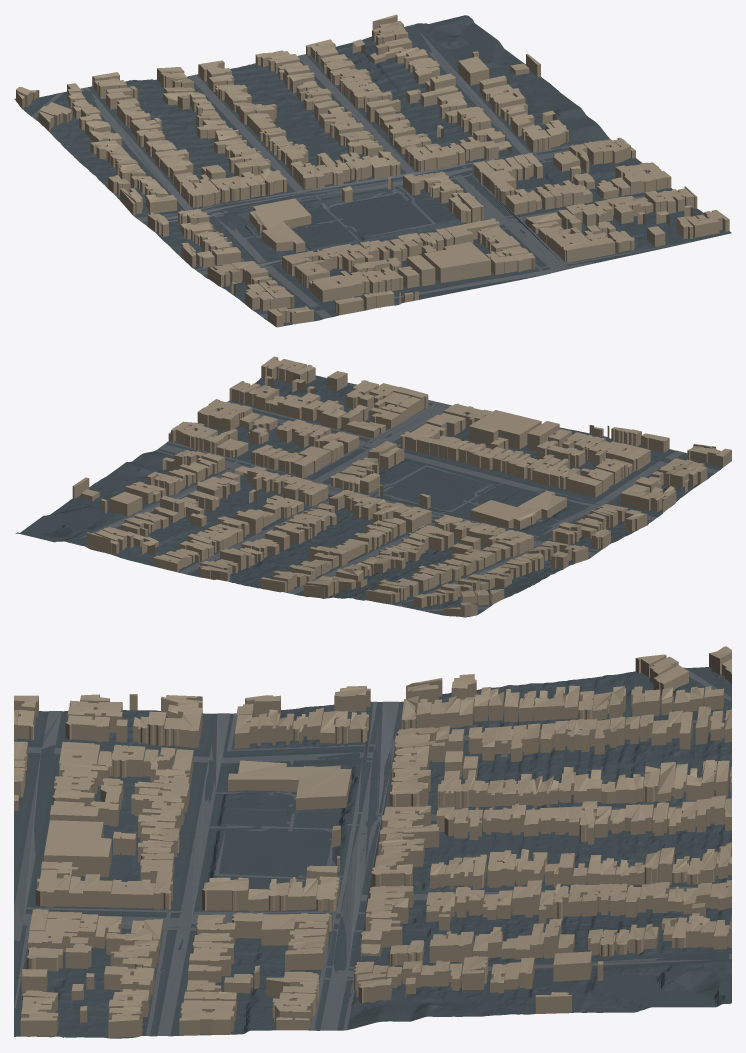
Rendered from epsg26910-1433-10878.lod0.glb.
3 renders of one model, top to bottom at view 1: azimuth 30°, elevation 25°; view 2: azimuth 150°, elevation 25°; view 3: azimuth 270°, elevation 25°, orthographic. The views are drawn at different scales.
Visible parts, largest first — view 1: epsg26910-1433-10878-lod0; view 2: epsg26910-1433-10878-lod0; view 3: epsg26910-1433-10878-lod0.
Part boxes in pixels (left/top/right/bottom): epsg26910-1433-10878-lod0: left=14, top=14, right=731, bottom=327; epsg26910-1433-10878-lod0: left=15, top=356, right=731, bottom=617; epsg26910-1433-10878-lod0: left=14, top=646, right=731, bottom=1038.
Size of the model in its own units: 384 by 52.57 by 384.
